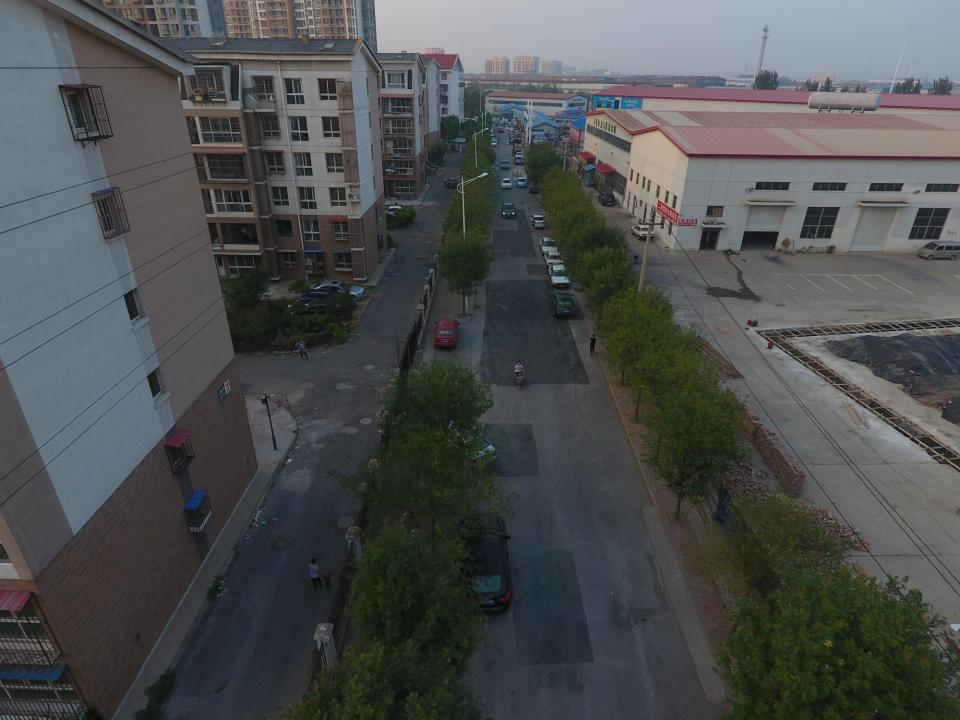car: (453, 512, 512, 614), (428, 417, 497, 468), (300, 288, 357, 310), (308, 280, 365, 301), (292, 298, 342, 319), (434, 318, 460, 348), (548, 291, 576, 318), (548, 264, 571, 288), (630, 224, 656, 240), (539, 237, 559, 256), (379, 205, 408, 218), (544, 251, 564, 269), (597, 192, 616, 206), (530, 214, 546, 229), (501, 202, 516, 218), (417, 160, 438, 170), (528, 181, 540, 193), (516, 176, 528, 187), (501, 178, 512, 190), (446, 178, 457, 188), (500, 160, 509, 170), (514, 156, 524, 165), (509, 138, 523, 144), (512, 148, 520, 156), (515, 152, 524, 159), (490, 140, 496, 146)
van: (917, 240, 960, 261)
